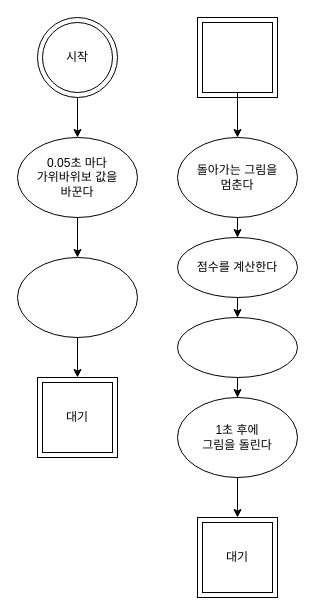
Some shapes in this 315 by 615 pixel diagram are drawn without their labels. The shapes that lost their labels are listed below. From the top down, each one's centre as x and y in pixels, then its label:
(237,57): 가위바위보 버튼 클릭
(77,297): 값에 따라 그림을 바꾼다
(237,347): 점수를 표시한다
